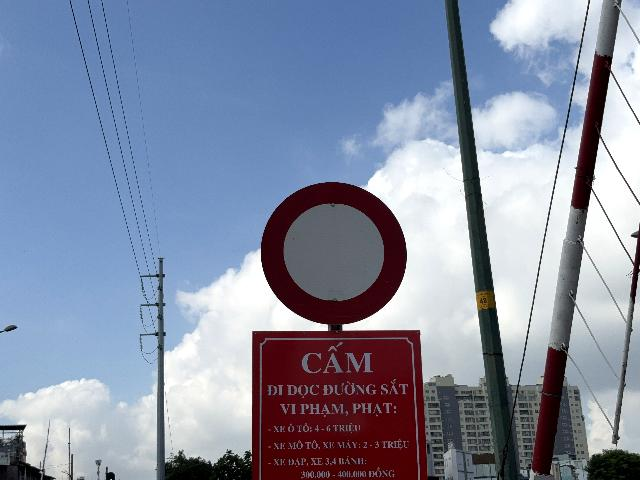duong-cam: (261, 181, 407, 324)
